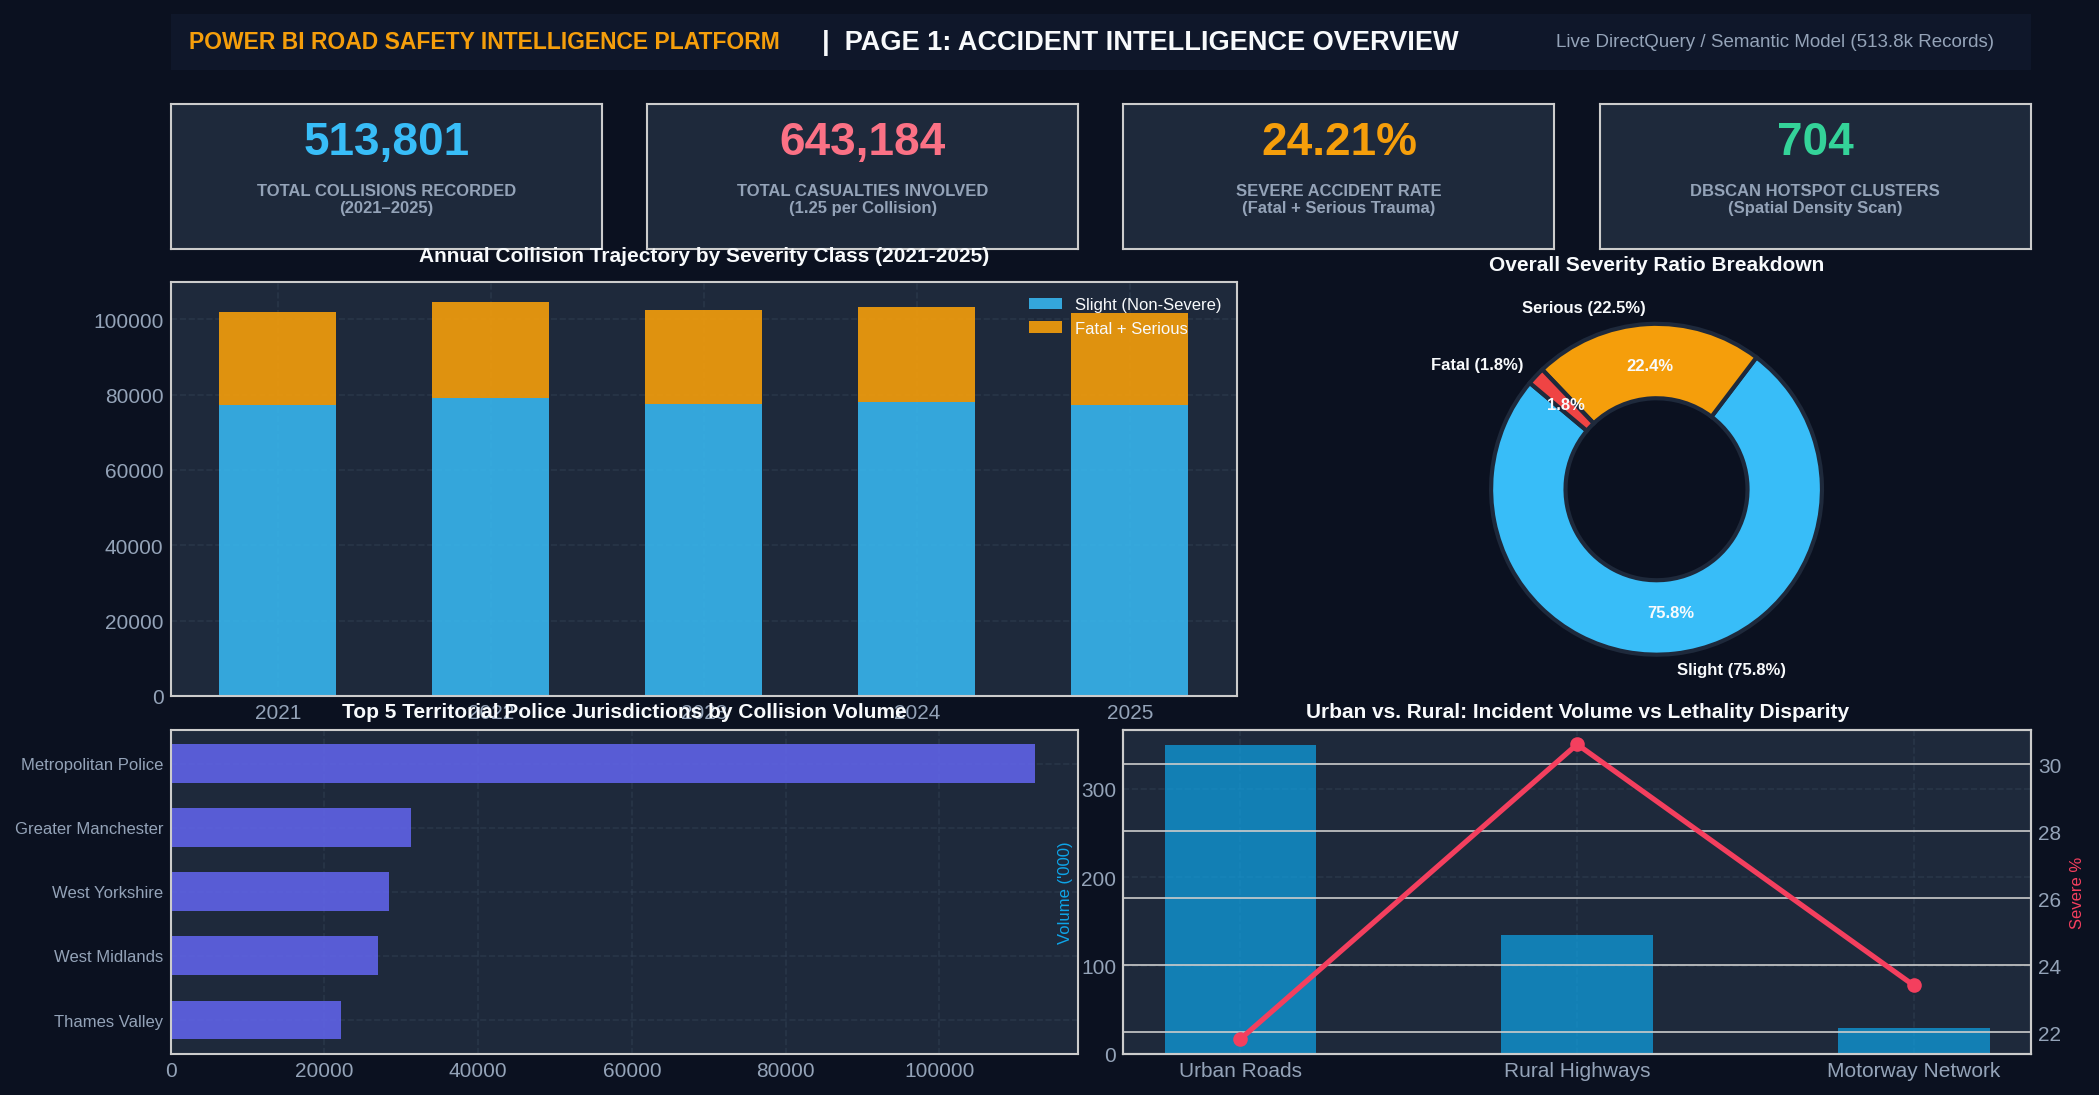

What the dashboard file says about the page in this screenshot:
{"tool":"powerbi","page":{"name":"1. Accident Intelligence Overview","canvas":[1280,720],"ordinal":0},"visuals":[{"type":"card","title":"Total Collisions","box":[20,20,190,100],"z":1000},{"type":"card","title":"Severe Collisions","box":[230,20,190,100],"z":1000},{"type":"card","title":"Severe Rate %","box":[440,20,190,100],"z":1000},{"type":"card","title":"Total Casualties","box":[650,20,190,100],"z":1000},{"type":"card","title":"Fatal Collisions","box":[860,20,190,100],"z":1000},{"type":"slicer","title":"Year Filter (2021-2025)","box":[1070,20,190,100],"z":1000},{"type":"lineStackedColumnComboChart","title":"5-Year Collision Volume & Severity Trend","box":[20,140,610,270],"z":1000},{"type":"donutChart","title":"Collision Severity Breakdown","box":[650,140,610,270],"z":1000},{"type":"clusteredBarChart","title":"Top Police Force Jurisdictions by Collision Volume","box":[20,430,610,270],"z":1000},{"type":"lineChart","title":"Cumulative Monthly Collisions by Calendar Year","box":[650,430,610,270],"z":1000}]}

Visuals, with their boxes on the page's 1280x720 design canvas (x1, y1, x2, y2). These are canvas units, not pixel positions in the 2099x1095 screenshot, which may show the page scaled, cropped or inside an application window:
"Total Collisions" card: <box>20,20,210,120</box>
"Severe Collisions" card: <box>230,20,420,120</box>
"Severe Rate %" card: <box>440,20,630,120</box>
"Total Casualties" card: <box>650,20,840,120</box>
"Fatal Collisions" card: <box>860,20,1050,120</box>
"Year Filter (2021-2025)" slicer: <box>1070,20,1260,120</box>
"5-Year Collision Volume & Severity Trend" lineStackedColumnComboChart: <box>20,140,630,410</box>
"Collision Severity Breakdown" donutChart: <box>650,140,1260,410</box>
"Top Police Force Jurisdictions by Collision Volume" clusteredBarChart: <box>20,430,630,700</box>
"Cumulative Monthly Collisions by Calendar Year" lineChart: <box>650,430,1260,700</box>
